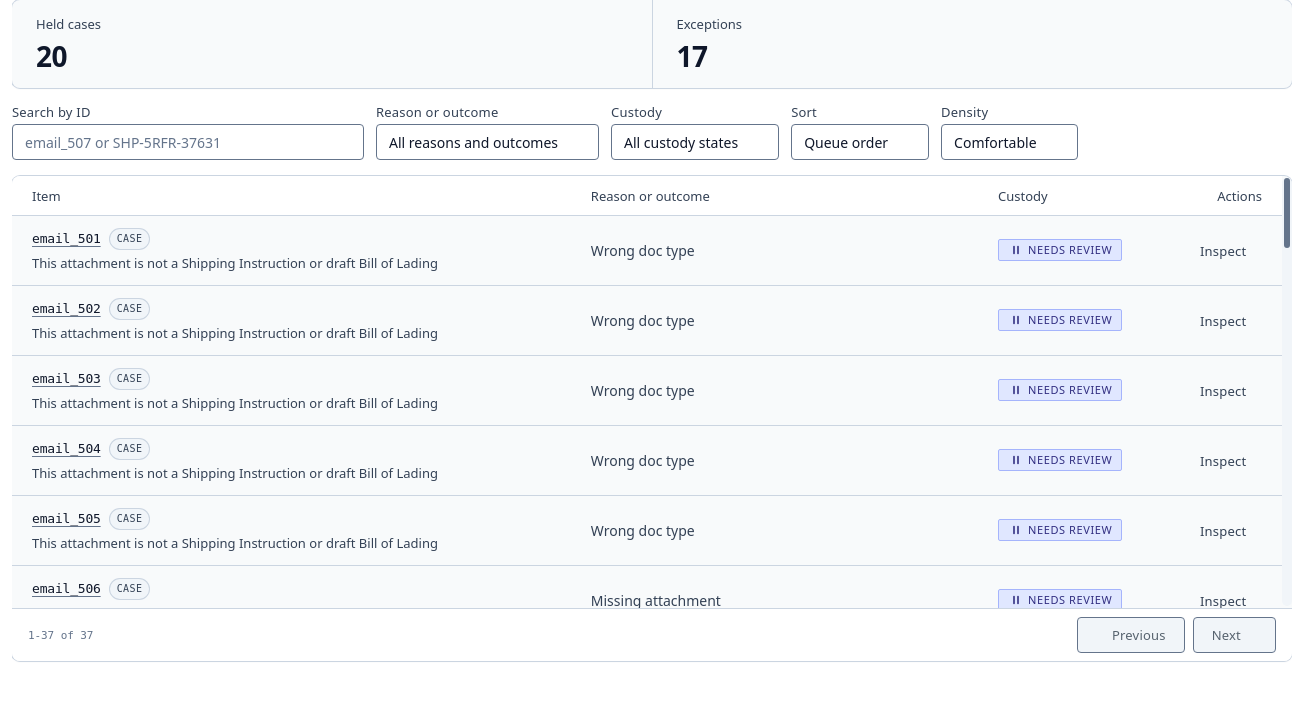
ReviewQueueView › filters by reason or outcome and custody, with no owner filter
Click the dropdown labelled "All custody states" at (695, 142), box [624, 125, 766, 159]
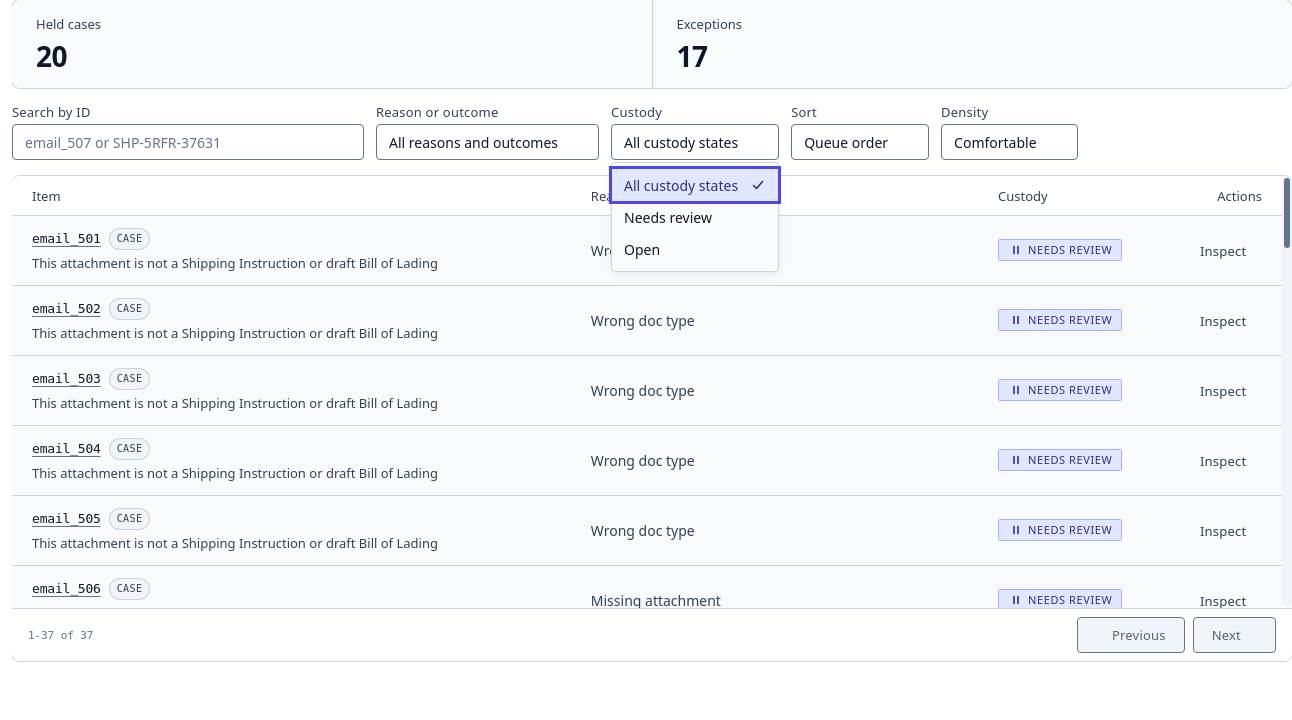
Click the option "Needs review" at (668, 217), box [624, 208, 712, 226]
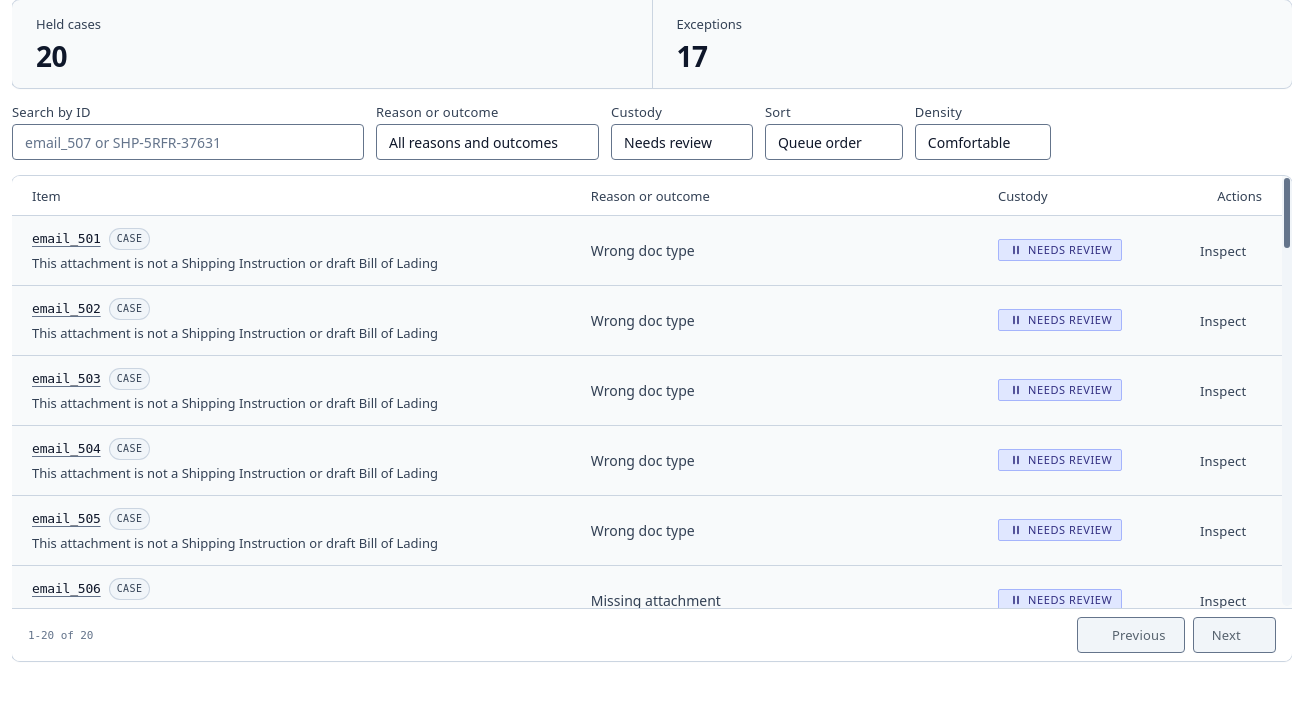
Click the dropdown named "Custody" at (682, 142), box [624, 125, 740, 159]
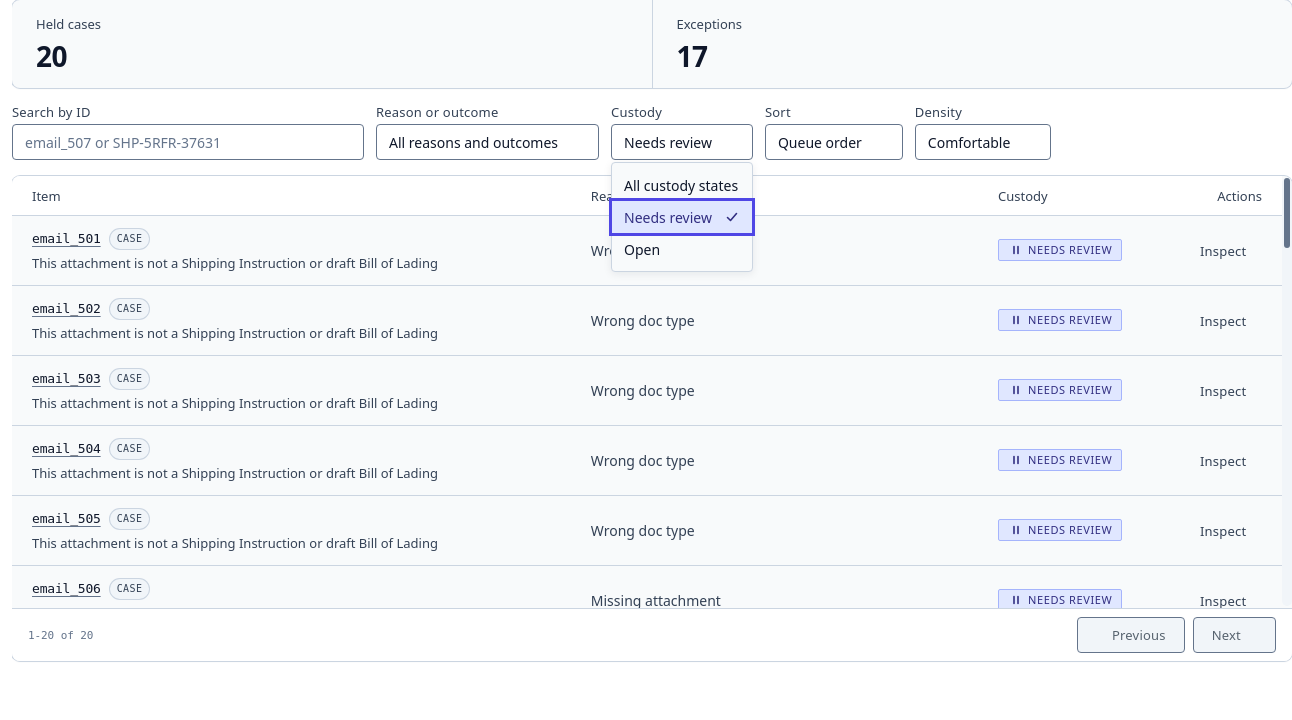
Click the option "Open" at (642, 249), box [624, 240, 660, 258]
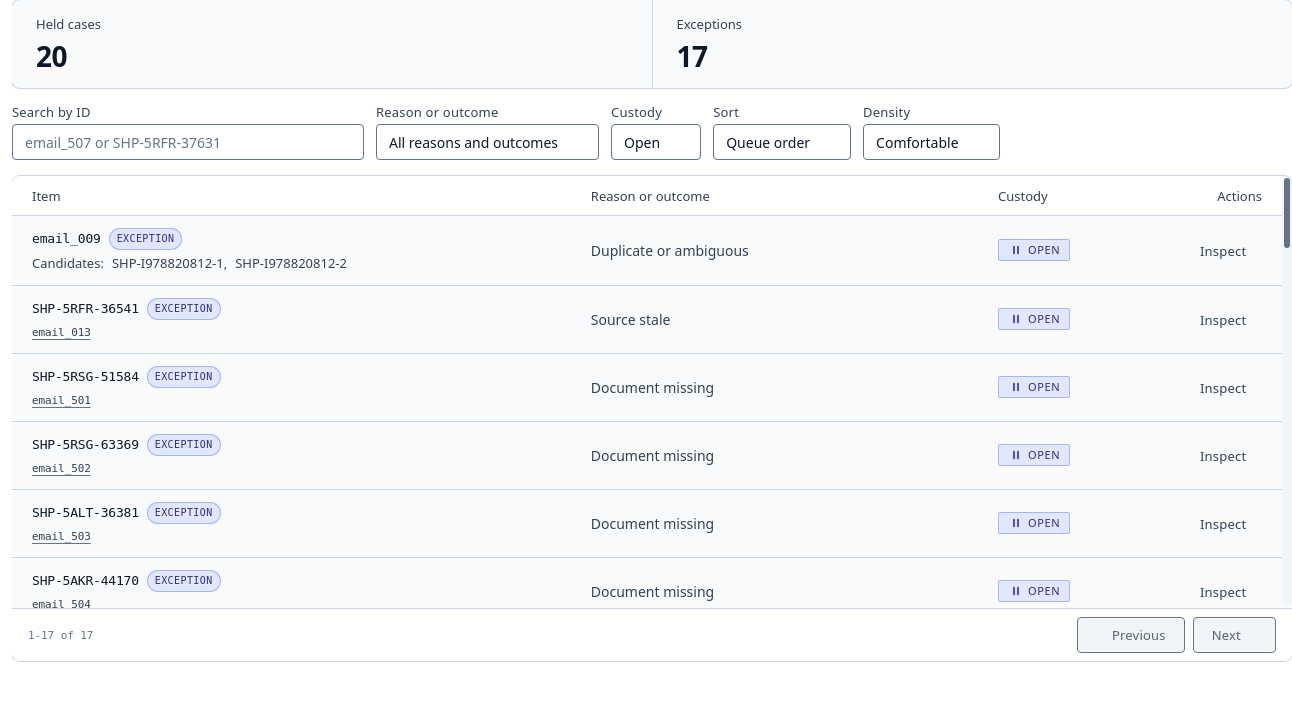
Click the dropdown named "Reason or outcome" at (488, 142), box [389, 125, 586, 159]
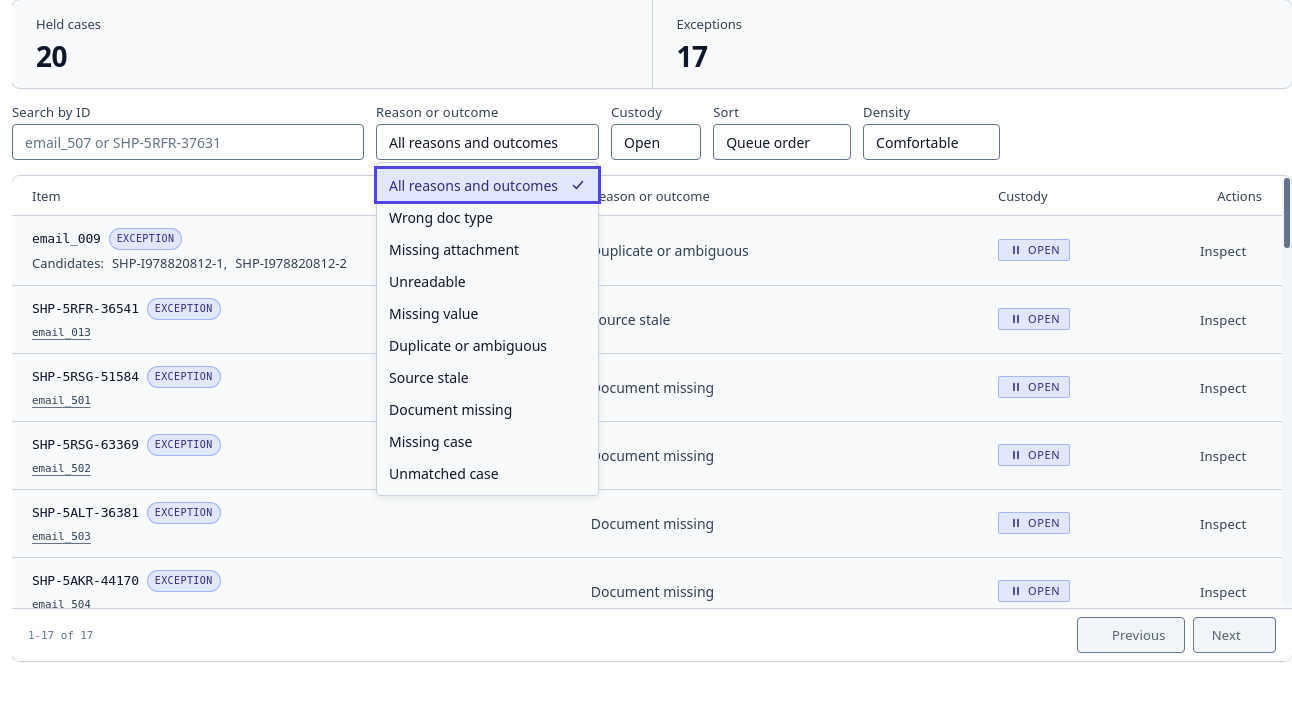
Click the option "Missing case" at (431, 441), box [389, 432, 472, 450]
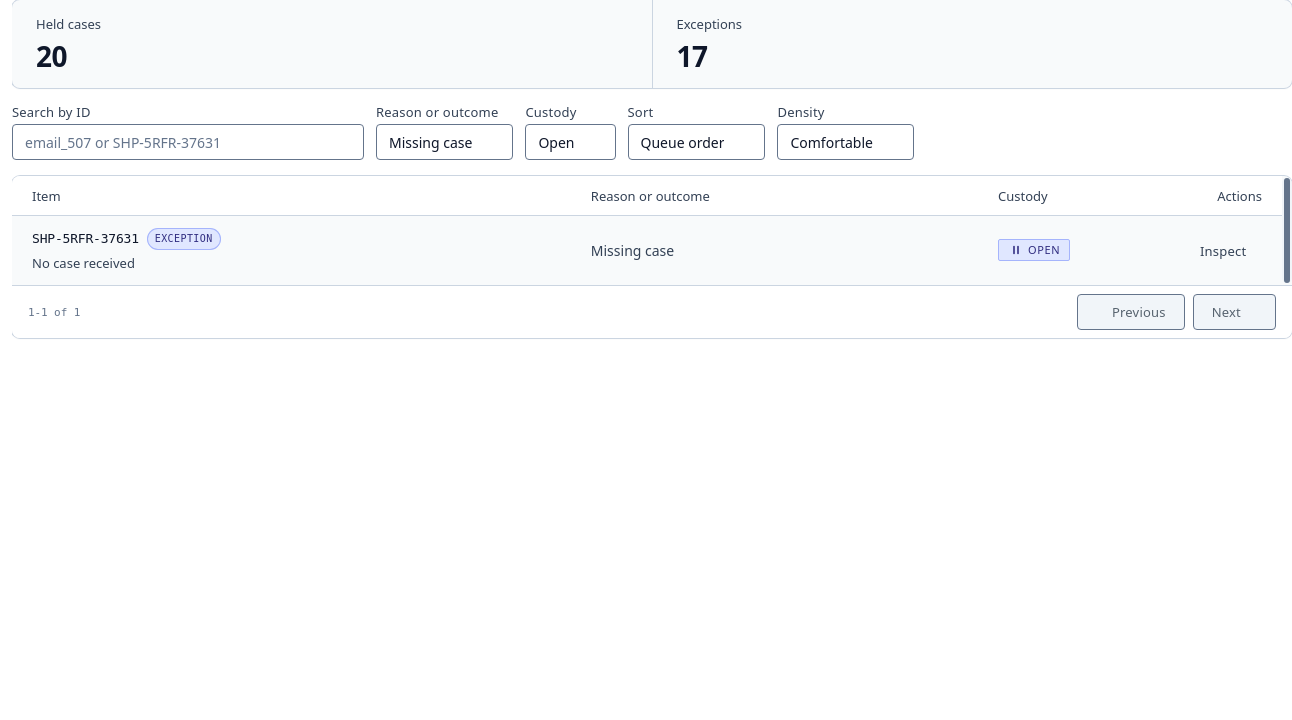
Check: the text "SHP-5RFR-37631" is shown, box [32, 229, 139, 249]
